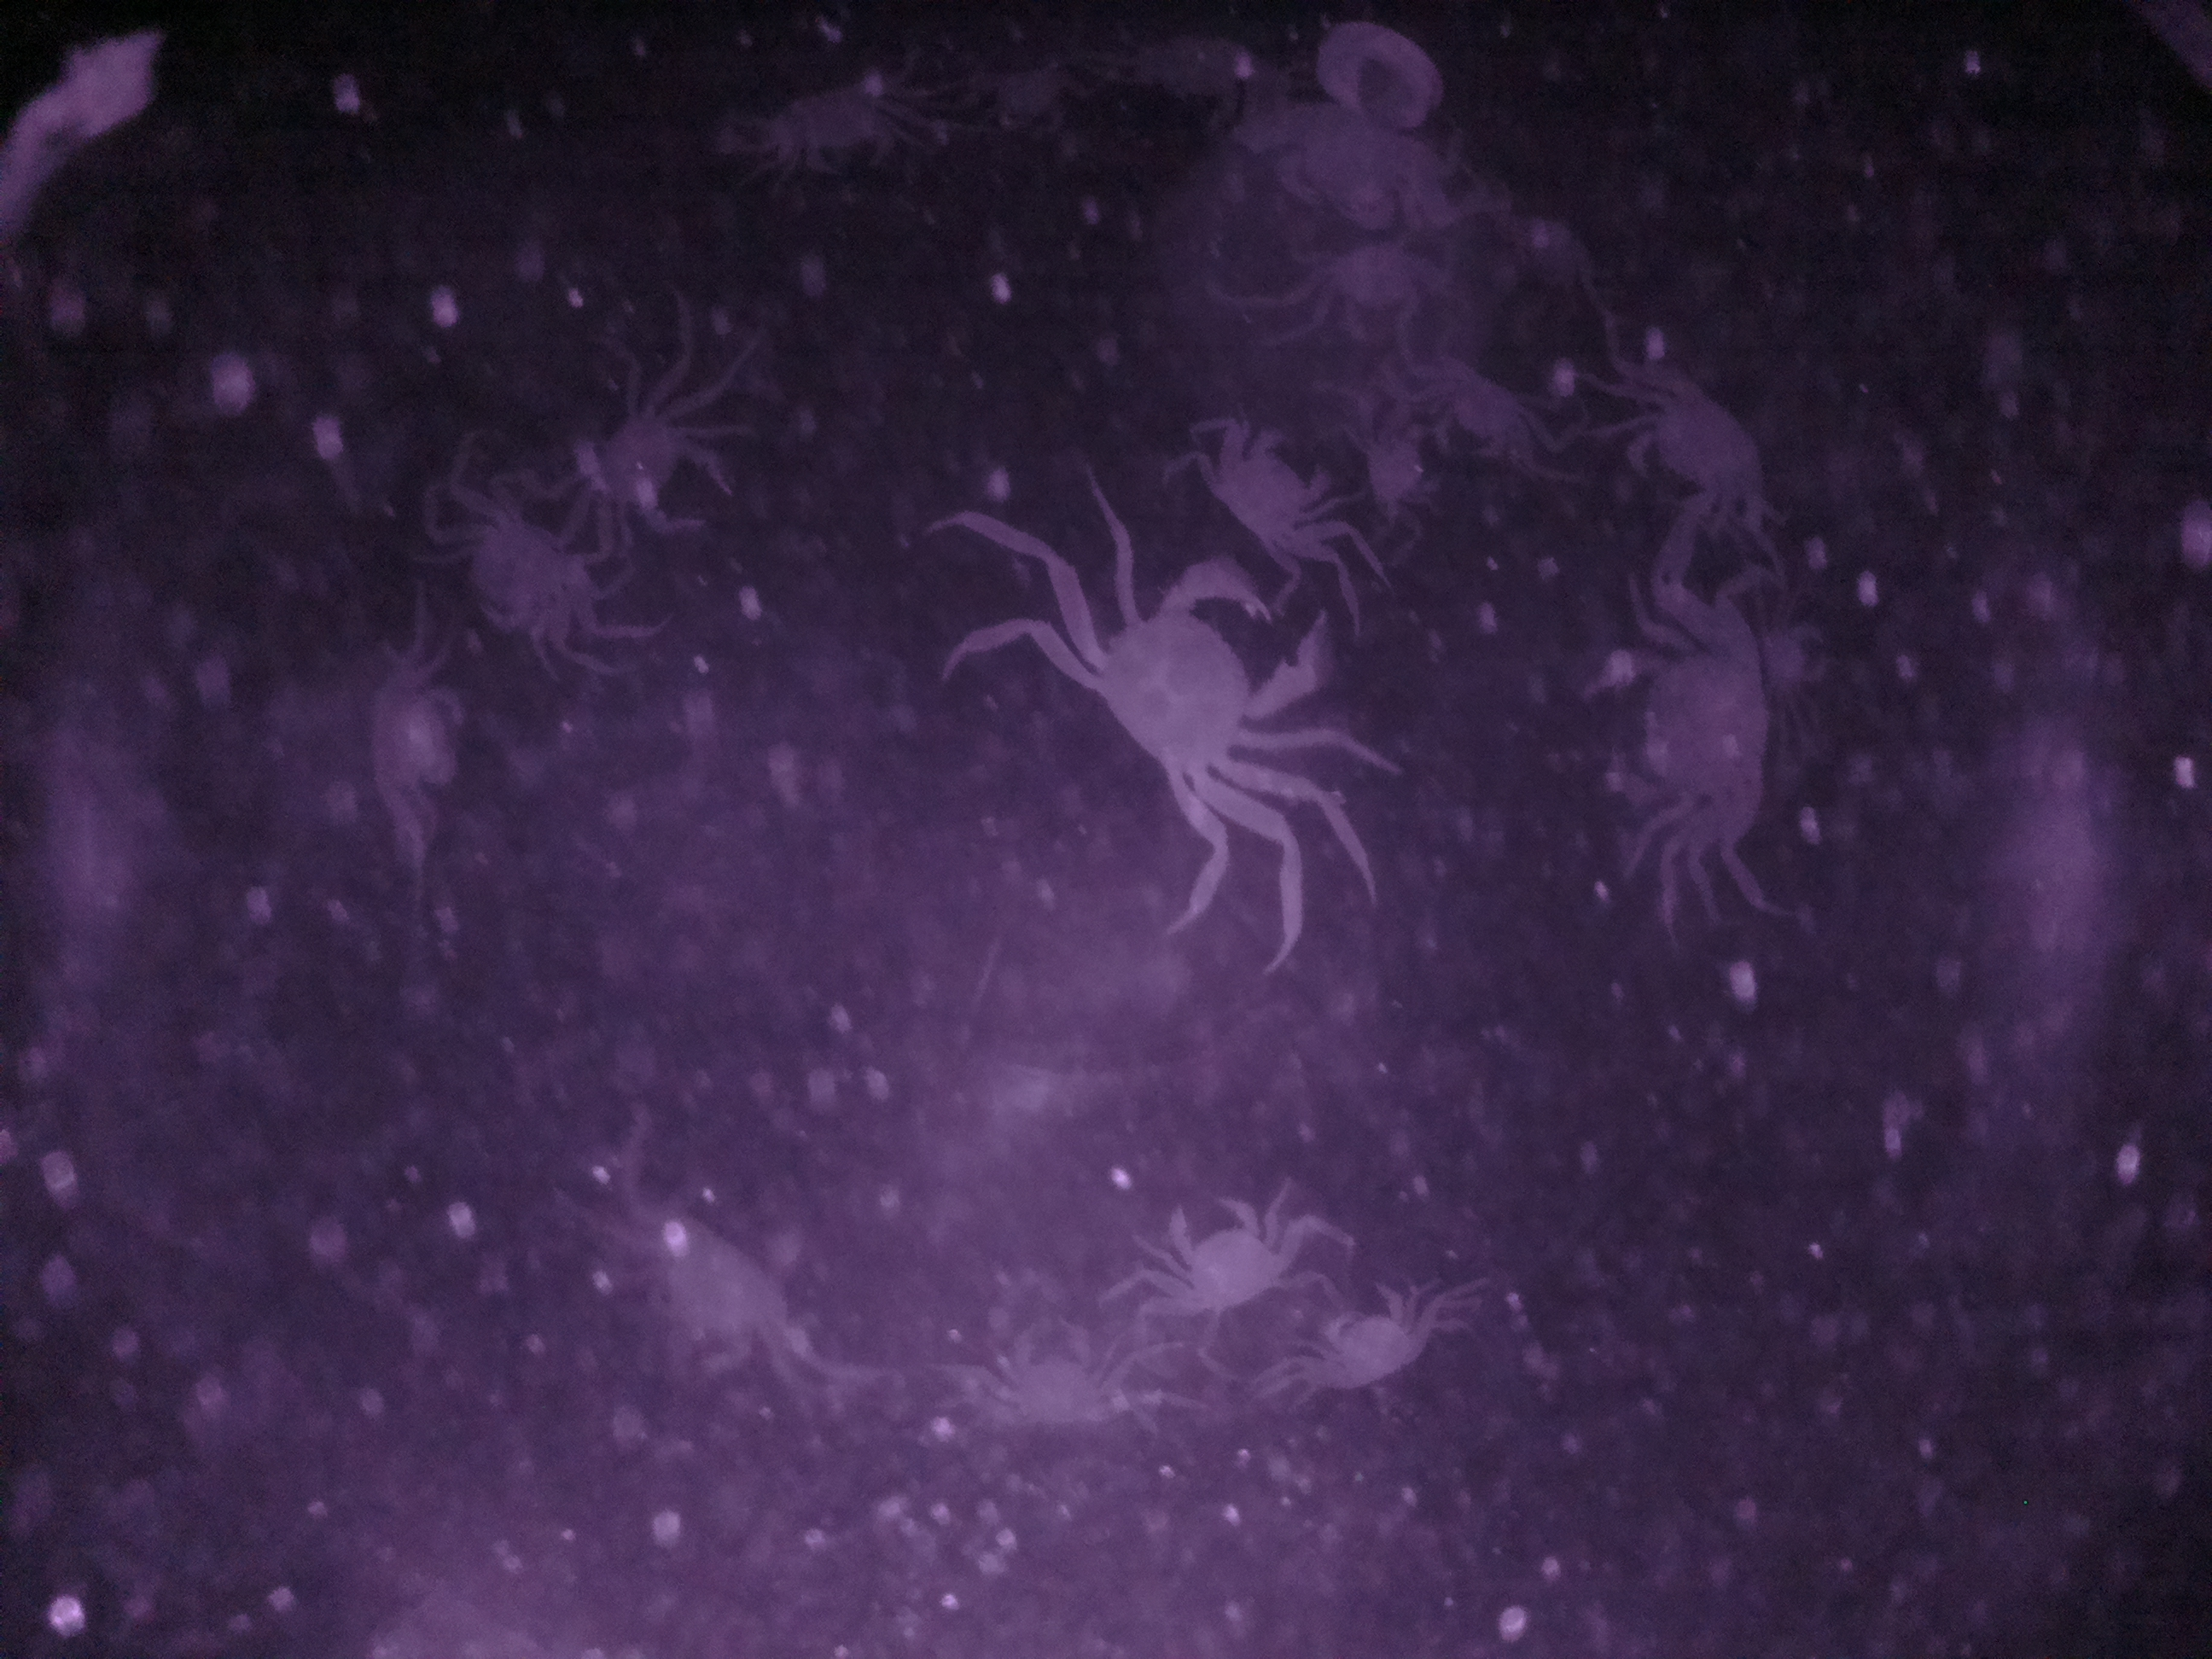Crab: (1040, 561, 1341, 849), (1588, 591, 1782, 870), (563, 369, 763, 556), (1592, 357, 1804, 532), (1183, 399, 1359, 572), (1259, 1277, 1463, 1419), (1125, 1185, 1299, 1331), (1388, 336, 1571, 472), (756, 54, 934, 193), (965, 1305, 1146, 1427)
